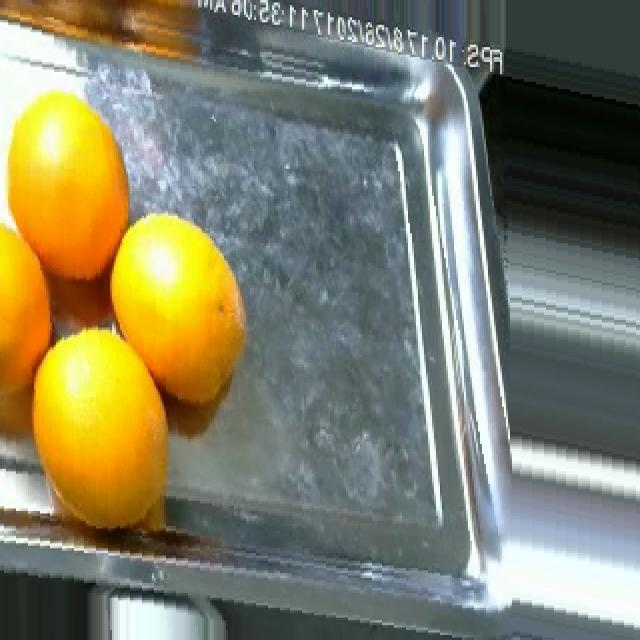Fruit: (110, 193, 260, 380)
